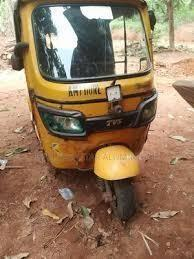keke: (14, 1, 160, 220)
